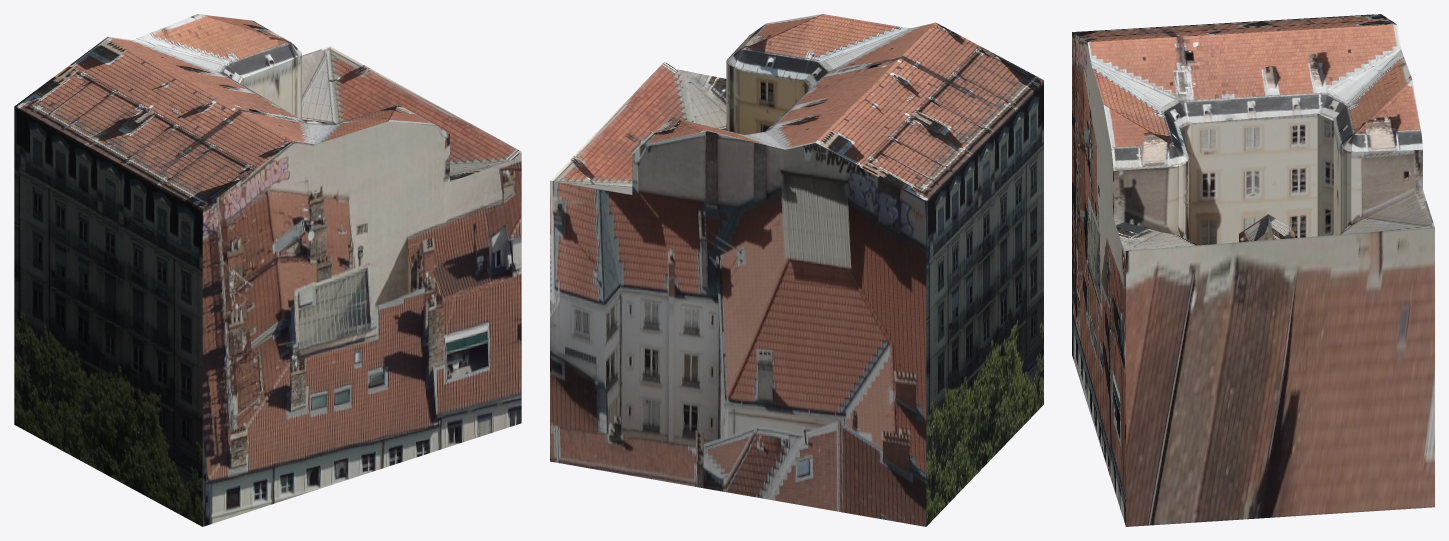
3 renders of one model, left to right at view 1: azimuth 30°, elevation 25°; view 2: azimuth 150°, elevation 25°; view 3: azimuth 270°, elevation 25°, orthographic.
Visible parts, largest first — view 1: Z_UP; view 2: Z_UP; view 3: Z_UP.
Part boxes in pixels (left/top/right/bottom): Z_UP: left=14, top=14, right=521, bottom=526; Z_UP: left=550, top=14, right=1043, bottom=526; Z_UP: left=1072, top=14, right=1434, bottom=526.
Bounding box in the file's own units: 31.81 × 28.44 × 25.73.
Materials: 2 (1 with a texture image).
